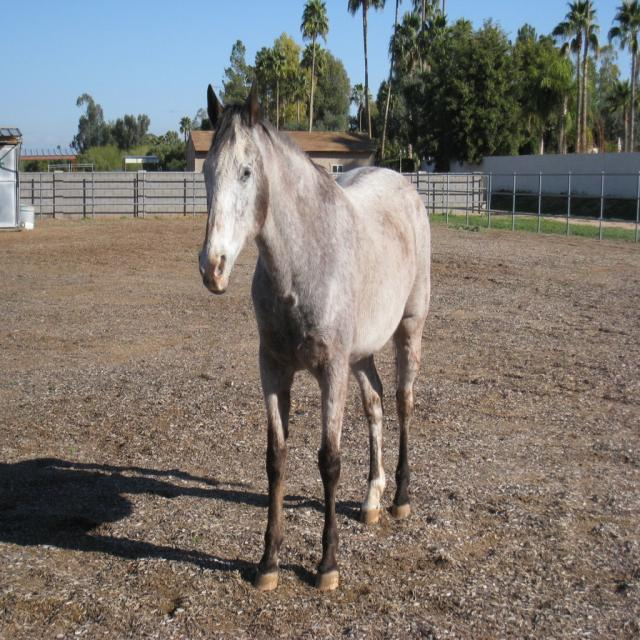Horse: (196, 82, 432, 592)
